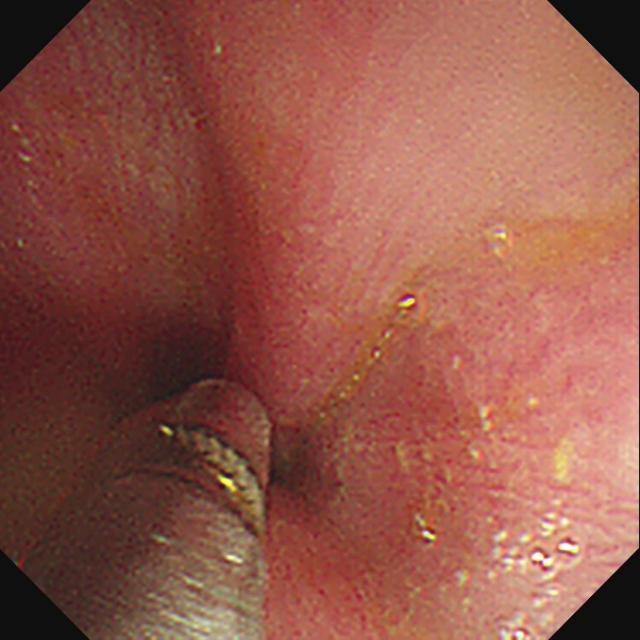K: (21, 376, 278, 640)
T: (515, 531, 591, 587), (406, 508, 442, 551), (497, 620, 538, 640)
